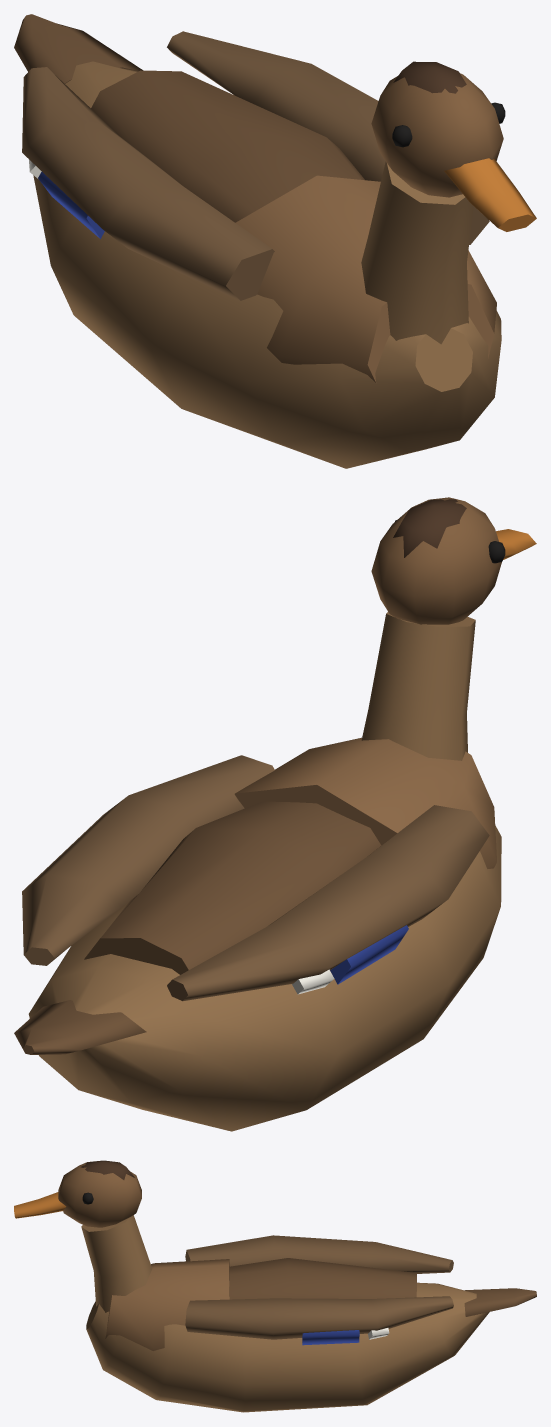
File: animal_duck_hen.glb
3 renders of one model, top to bottom at view 1: azimuth 30°, elevation 25°; view 2: azimuth 150°, elevation 25°; view 3: azimuth 270°, elevation 25°, orthographic. The views are drawn at different scales.
Parts seen in each view (by area): view 1: body, head, wing_R, wing_L; view 2: body, head, wing_R, wing_L; view 3: body, wing_L, head, wing_R.
Part boxes in pixels (<box>): body: <box>14,14,501,468</box>; head: <box>361,61,536,344</box>; wing_R: <box>22,67,274,300</box>; wing_L: <box>167,31,489,244</box>; body: <box>14,737,501,1131</box>; head: <box>361,497,536,760</box>; wing_R: <box>167,805,489,1001</box>; wing_L: <box>22,755,274,965</box>; body: <box>86,1258,536,1412</box>; wing_L: <box>185,1296,453,1345</box>; head: <box>14,1160,152,1312</box>; wing_R: <box>185,1235,453,1273</box>.
Size of the model in its own units: 0.2849 by 0.352 by 0.7001.
